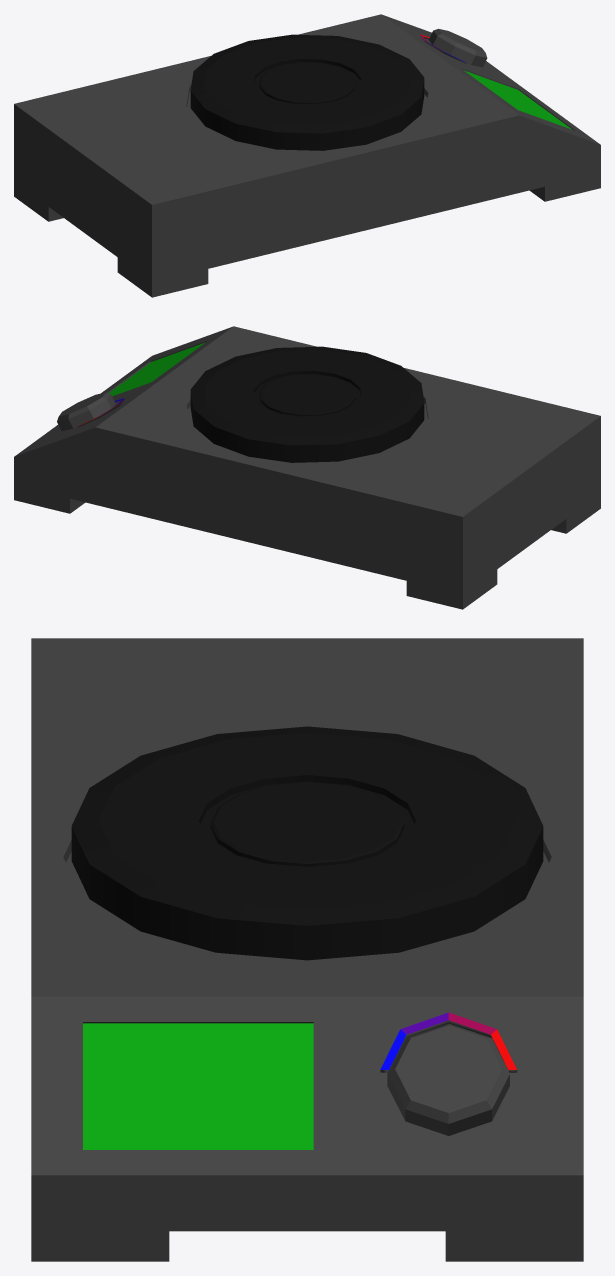
File: hob.obj
3 views of the same model, one above another, from view 1: azimuth 30°, elevation 25°; view 2: azimuth 150°, elevation 25°; view 3: azimuth 270°, elevation 25° (orthographic). The views are drawn at different scales.
Visible parts, largest first — view 1: Cube, Circle, Cube.002, Cube.004; view 2: Cube, Circle, Cube.002, Cube.004; view 3: Cube, Circle, Cube.004, Cube.002, Circle.002.
Boxes of the visible parts, x1,y1,x2,y2 form: Cube: (14,14,600,297); Circle: (190,34,424,150); Cube.002: (429,28,487,67); Cube.004: (464,70,571,129); Cube: (14,326,600,609); Circle: (190,346,424,462); Cube.002: (57,392,115,431); Cube.004: (109,342,205,396); Cube: (31,638,583,1261); Circle: (71,726,543,960); Cube.004: (83,1023,313,1149); Cube.002: (387,1023,509,1135); Circle.002: (380,1012,517,1072).
Bounding box in the file's own units: 2 × 0.4719 × 1.07.
